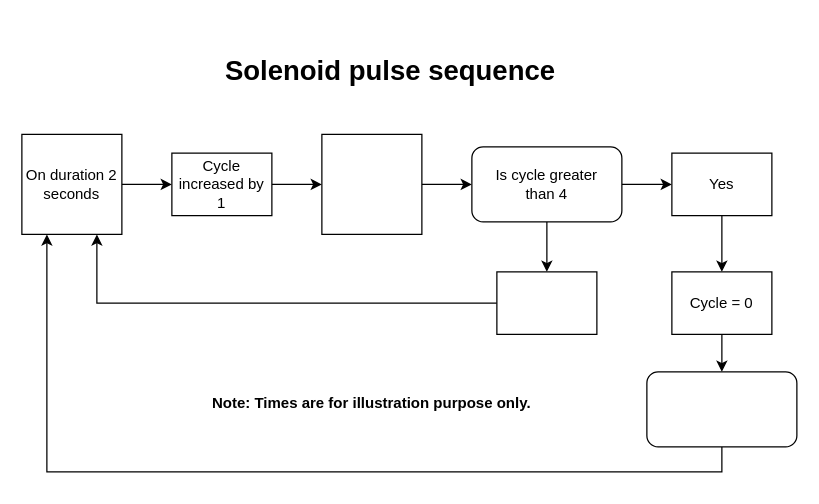
Image size: 819x504. Some labels were removed from this diagram. Here are the shapes that lost their labels. From the top down, the box of each, then its label:
(321, 133, 422, 234): Off duration 5 seconds
(496, 271, 597, 334): No
(646, 371, 797, 447): Wait the alloted pause duration 60 seconds
